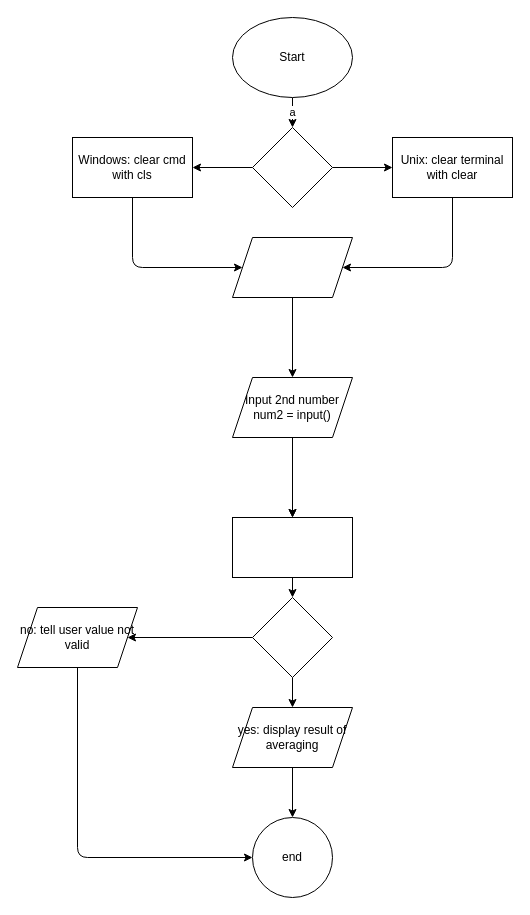
Image size: 530x915. Some labels were removed from this diagram. The shapes that lost their labels are listed below. From the top down, each one's centre as x and y in pixels, then its label:
point (292, 167): is on OS...?
point (292, 267): Input 1st number num1 = input()
point (292, 547): average both numbers result = num1 + num2 /2
point (292, 637): inputted value is valid? (integer)
